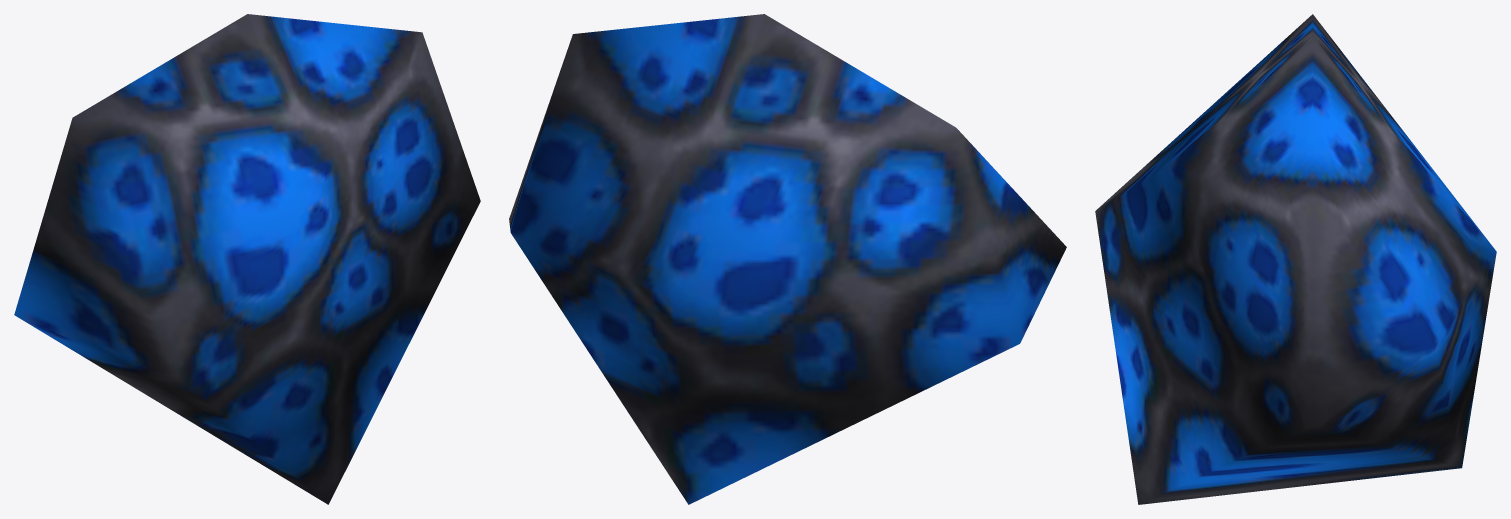
Rendered from child (merge).fbx.
3 renders of one model, left to right at view 1: azimuth 30°, elevation 25°; view 2: azimuth 150°, elevation 25°; view 3: azimuth 270°, elevation 25°, orthographic. The views are drawn at different scales.
Visible parts, largest first — view 1: child; view 2: child; view 3: child.
Part boxes in pixels (x1,y1,x2,y2): child: (14, 14, 480, 504); child: (509, 14, 1066, 504); child: (1095, 14, 1496, 504).
Bounding box in the file's own units: 0.5849 × 0.5171 × 0.4049.
1 material, 1 textured.
